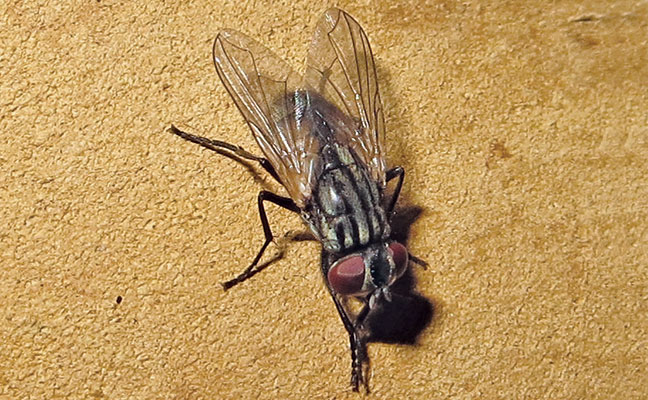house fly: (168, 7, 438, 400)
